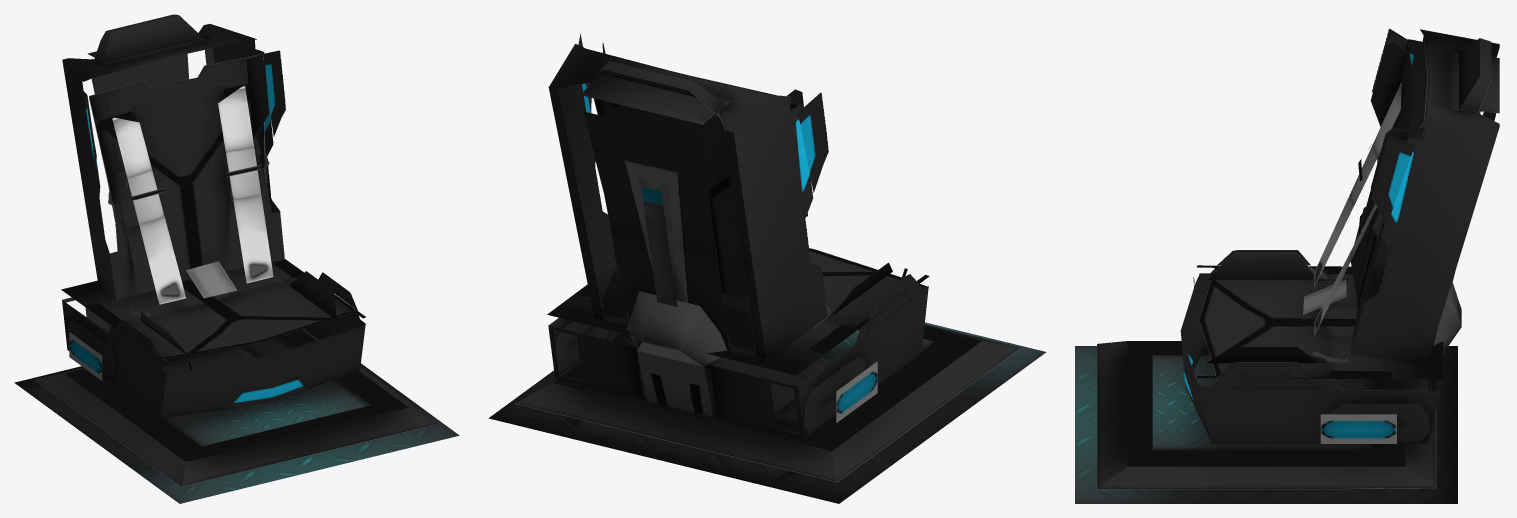
The model's file is obj_interactive_seat_04_lod1.fbx.
3 renders of one model, left to right at view 1: azimuth 30°, elevation 25°; view 2: azimuth 150°, elevation 25°; view 3: azimuth 270°, elevation 25°, orthographic. The views are drawn at different scales.
Visible parts, largest first — view 1: obj_interactive_seat_07; view 2: obj_interactive_seat_07; view 3: obj_interactive_seat_07.
Boxes of the visible parts, <box> form: obj_interactive_seat_07: <box>14,14,459,503</box>; obj_interactive_seat_07: <box>488,34,1046,503</box>; obj_interactive_seat_07: <box>1075,28,1499,503</box>.
Size of the model in its own units: 3.5 by 3.8 by 4.
1 material, 1 textured.
